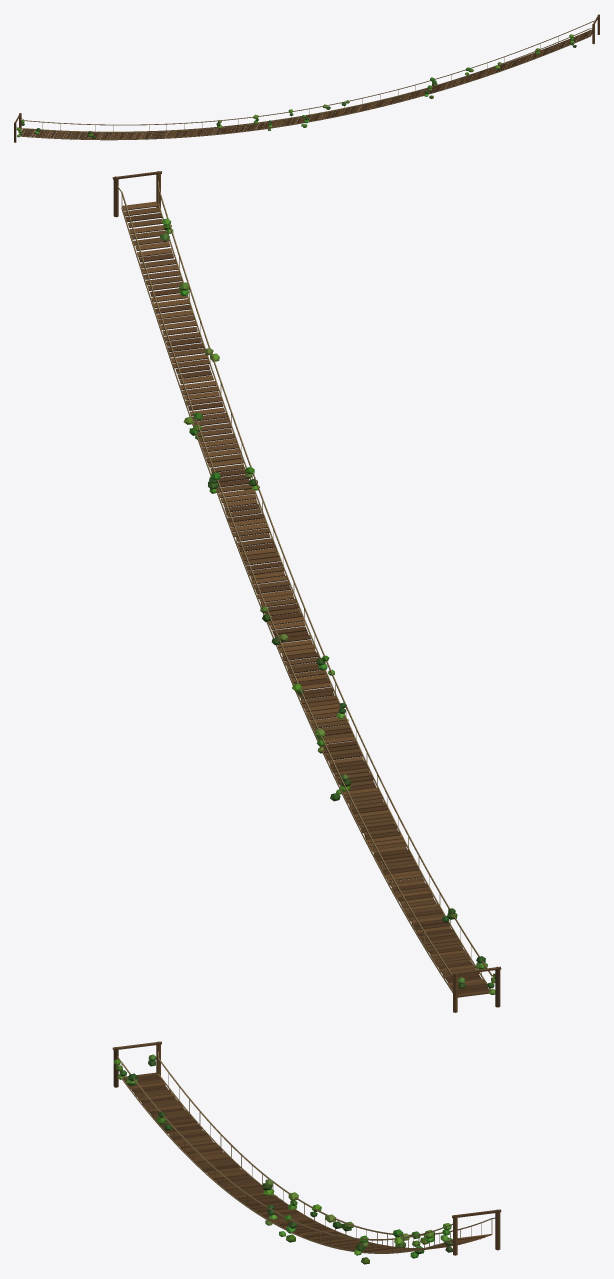
Rendered from SM_Bridge_04_05.fbx.
3 views of the same model, one above another, from view 1: azimuth 30°, elevation 25°; view 2: azimuth 150°, elevation 25°; view 3: azimuth 330°, elevation 25° (orthographic). The views are drawn at different scales.
Visible parts, largest first — view 1: SM_Bridge_04_05; view 2: SM_Bridge_04_05; view 3: SM_Bridge_04_05.
Part boxes in pixels (left/top/right/bottom): SM_Bridge_04_05: left=14, top=14, right=599, bottom=142; SM_Bridge_04_05: left=112, top=171, right=501, bottom=1012; SM_Bridge_04_05: left=112, top=1041, right=501, bottom=1264.
Bounding box in the file's own units: 56.89 × 24.62 × 54.11.
